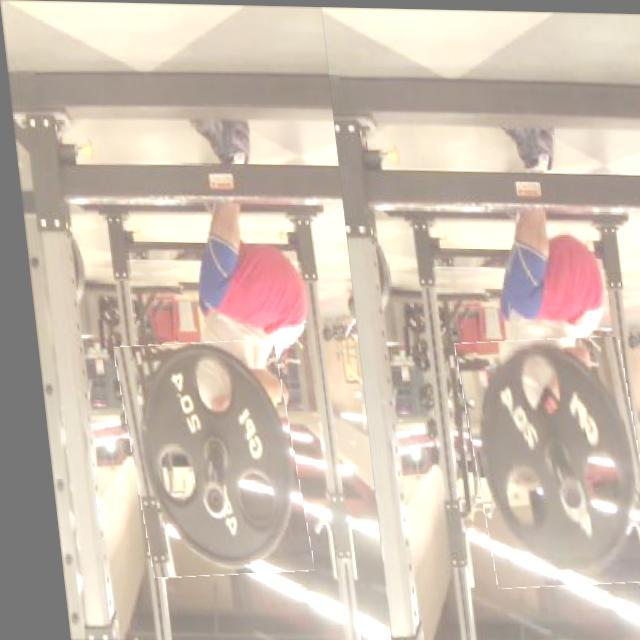barbell: (451, 335, 640, 588), (110, 340, 300, 579)
